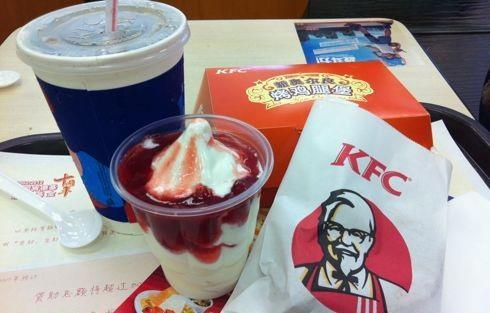KFC: (297, 187, 403, 280)
